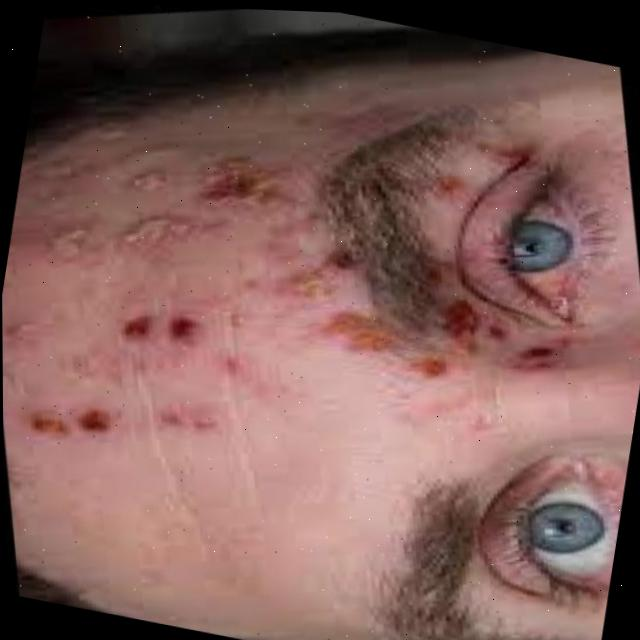Shingles: (6, 122, 380, 501)
